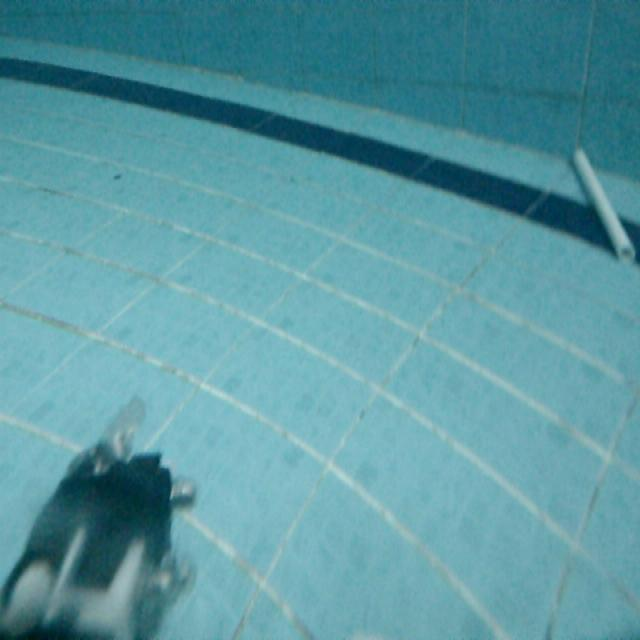Cube: (571, 144, 639, 269)
